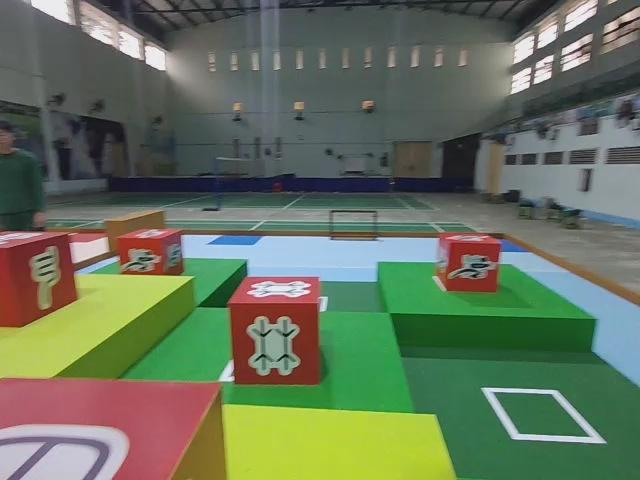R1: (433, 231, 503, 293), (113, 226, 186, 283)
R2 Fake: (0, 373, 224, 480), (0, 224, 76, 331)
R2 Real: (227, 272, 324, 388)
